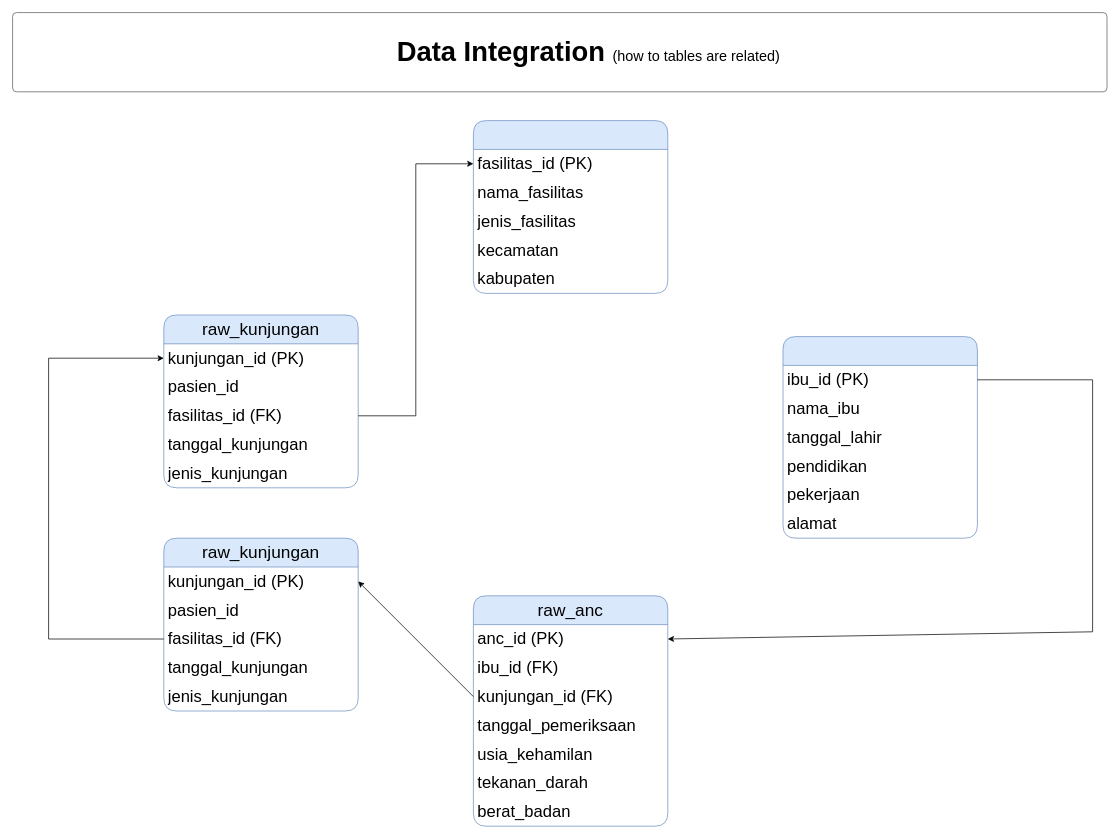
Image size: 1120x839. Some labels were removed from this diagram. Each missing label, with the box of its shape:
raw_fasilitas: (473, 120, 668, 293)
raw_ibu: (782, 336, 977, 538)
